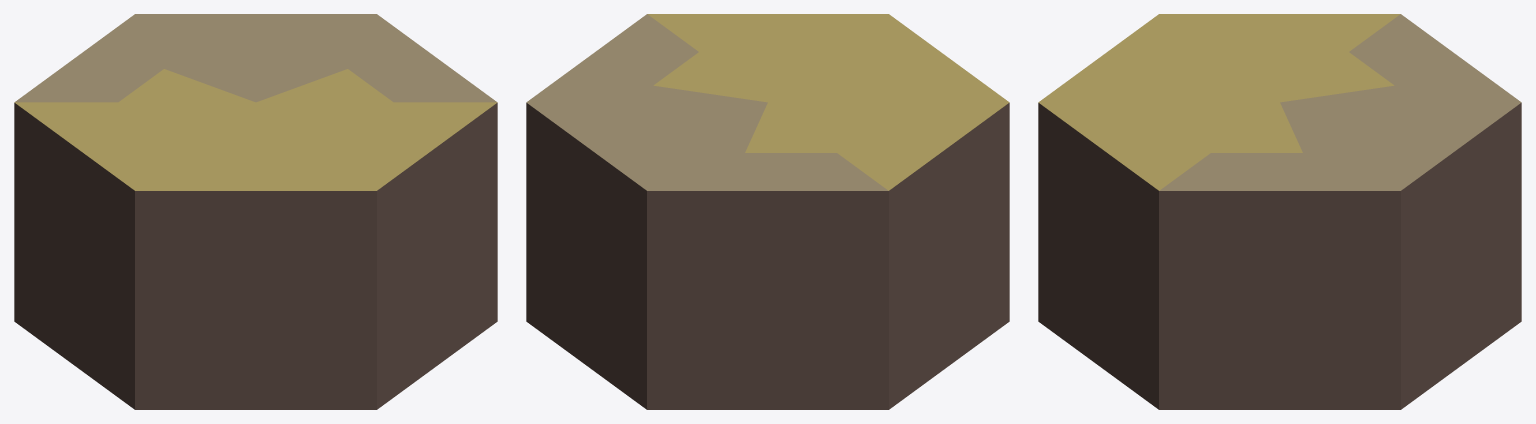
Rendered from AE_Hex_Volcano_Sulphur.fbx.
The picture shows the model from 3 angles, left to right: view 1: azimuth 30°, elevation 25°; view 2: azimuth 150°, elevation 25°; view 3: azimuth 270°, elevation 25°; orthographic projection.
Visible parts, largest first — view 1: AE_Hex_Volcano_Sulphur; view 2: AE_Hex_Volcano_Sulphur; view 3: AE_Hex_Volcano_Sulphur.
Part boxes in pixels (box(x1,y1,x2,y2)): AE_Hex_Volcano_Sulphur: box(14, 14, 497, 409); AE_Hex_Volcano_Sulphur: box(526, 14, 1009, 409); AE_Hex_Volcano_Sulphur: box(1038, 14, 1521, 409).
Size of the model in its own units: 1.73 by 1 by 2.
